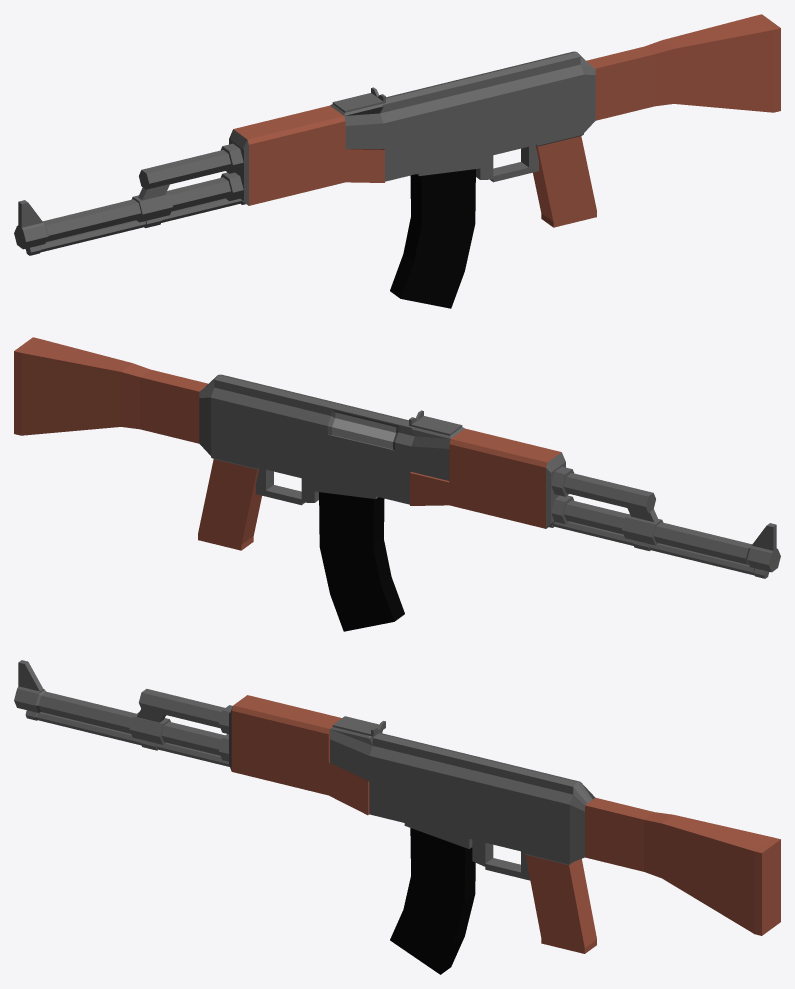
The picture shows the model from 3 angles, top to bottom: view 1: azimuth 30°, elevation 25°; view 2: azimuth 150°, elevation 25°; view 3: azimuth 330°, elevation 25°; orthographic projection.
Visible parts, largest first — view 1: Cube, Cube.001; view 2: Cube, Cube.001; view 3: Cube, Cube.001.
Part boxes in pixels (bbox=[...]): Cube: bbox=[14, 14, 780, 255]; Cube.001: bbox=[390, 169, 475, 308]; Cube: bbox=[14, 337, 780, 578]; Cube.001: bbox=[319, 492, 404, 631]; Cube: bbox=[14, 660, 780, 953]; Cube.001: bbox=[390, 828, 475, 974].
Size of the model in its own units: 6072 by 1769 by 267.
